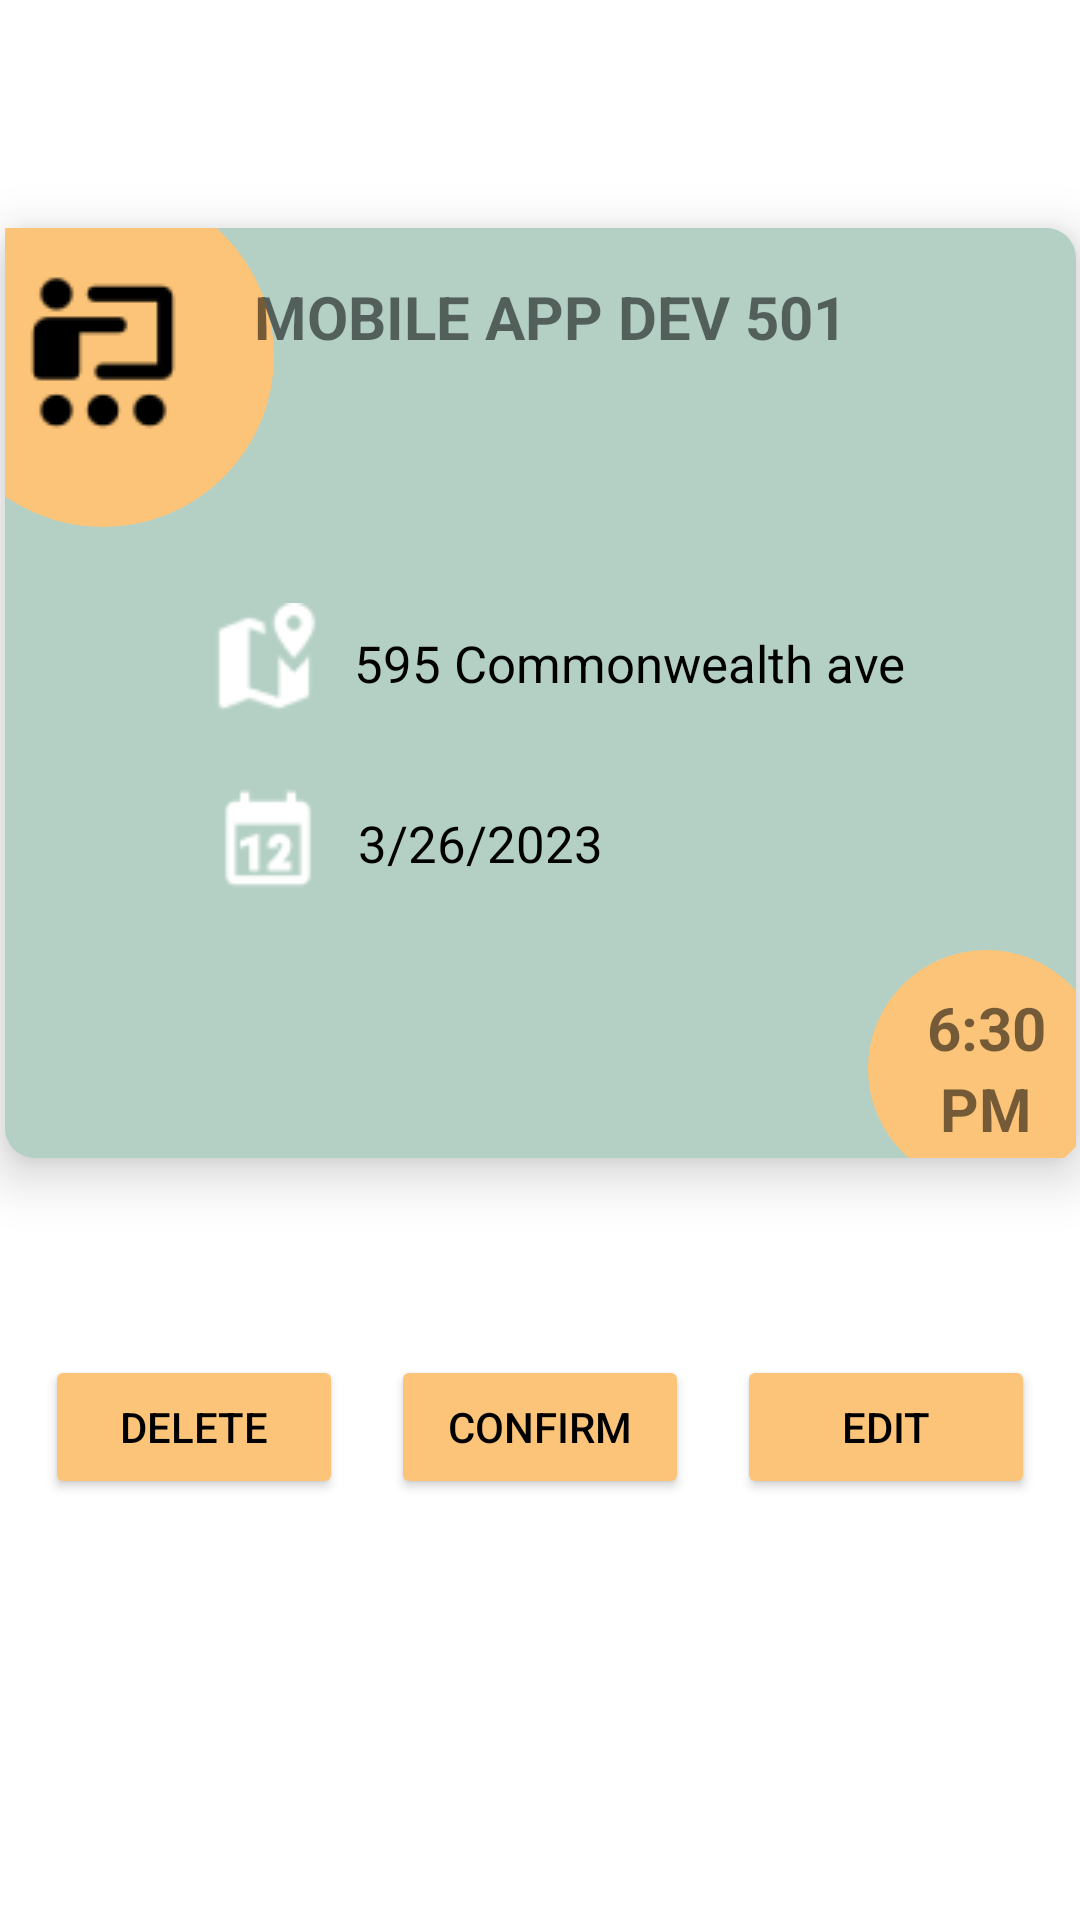

Where to tap for icons on this 1080 × 1920 app screen, as (x,y):
calendar: (268,838)
lecture: (103,352)
map marker: (267,655)
